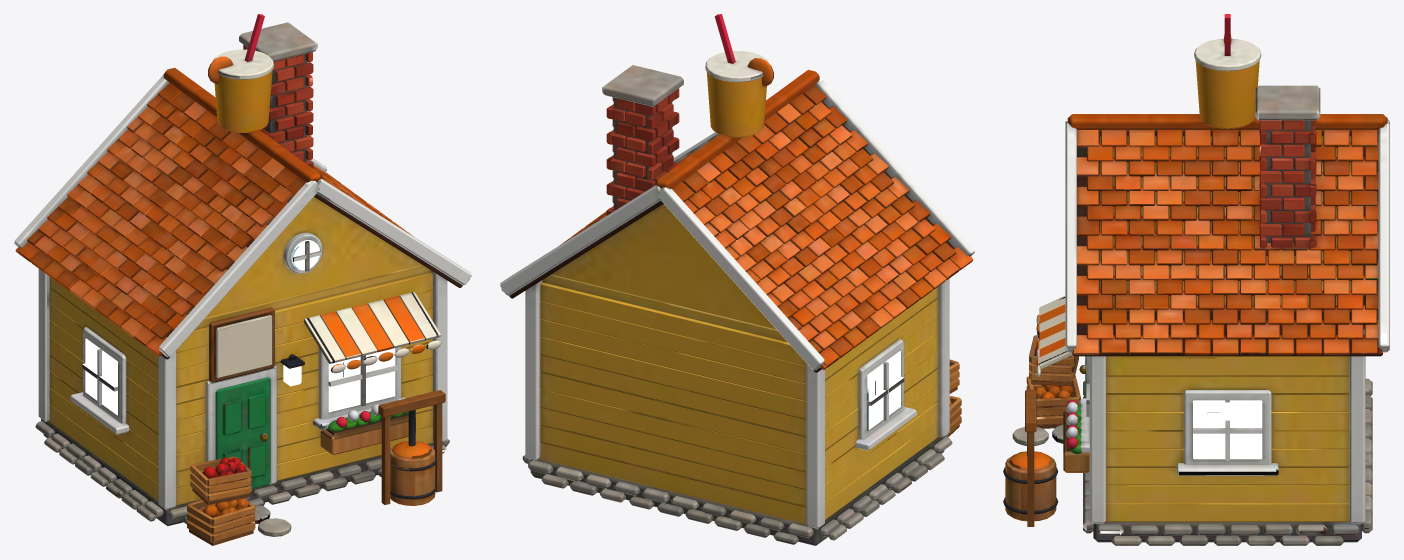
Rendered from juice_press.glb.
3 views of the same model, side by side, from view 1: azimuth 30°, elevation 25°; view 2: azimuth 150°, elevation 25°; view 3: azimuth 270°, elevation 25° (orthographic). The views are drawn at different scales.
Parts seen in each view (by area): view 1: juice_press; view 2: juice_press; view 3: juice_press.
Part boxes in pixels (x1,y1,x2,y2): juice_press: [14, 14, 471, 545]; juice_press: [500, 14, 974, 545]; juice_press: [1003, 14, 1389, 545].
Size of the model in its own units: 1.68 by 2.22 by 1.67.
1 material, 1 textured.
